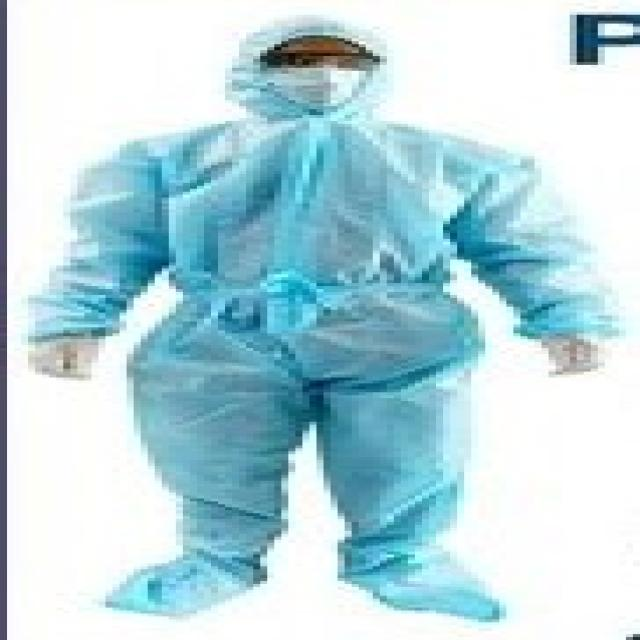Coverall: (28, 6, 626, 622)
Mask: (253, 62, 373, 103)
